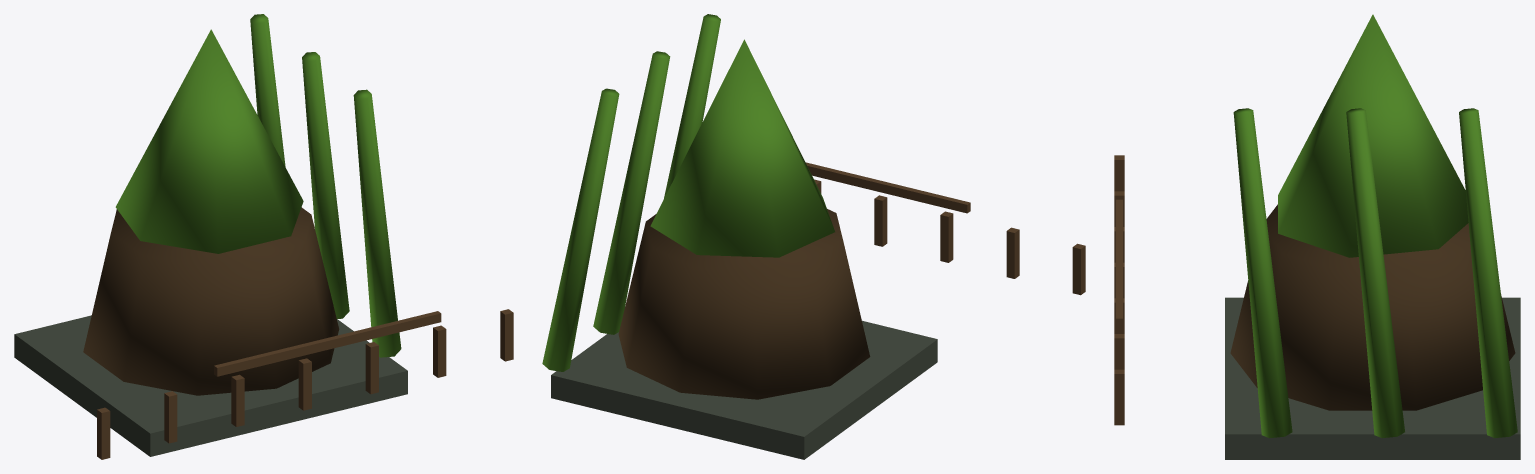
Rendered from grove_vine_warren.glb.
3 views of the same model, side by side, from view 1: azimuth 30°, elevation 25°; view 2: azimuth 150°, elevation 25°; view 3: azimuth 270°, elevation 25° (orthographic). The views are drawn at different scales.
Visible parts, largest first — view 1: grove_vine_warren; view 2: grove_vine_warren; view 3: grove_vine_warren.
Boxes of the visible parts, x1,y1,x2,y2 form: grove_vine_warren: (14,14,513,459); grove_vine_warren: (542,14,1085,459); grove_vine_warren: (1114,14,1520,459).
Bounding box in the file's own units: 36.75 × 29.59 × 28.88.
